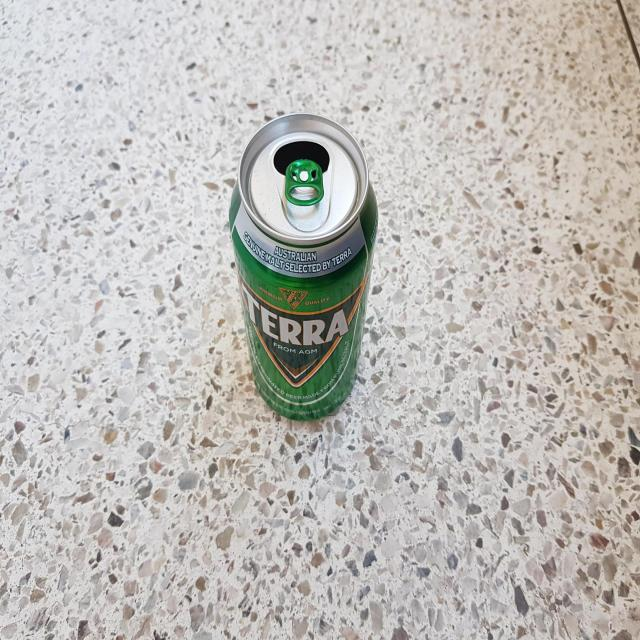can: (229, 113, 378, 420)
